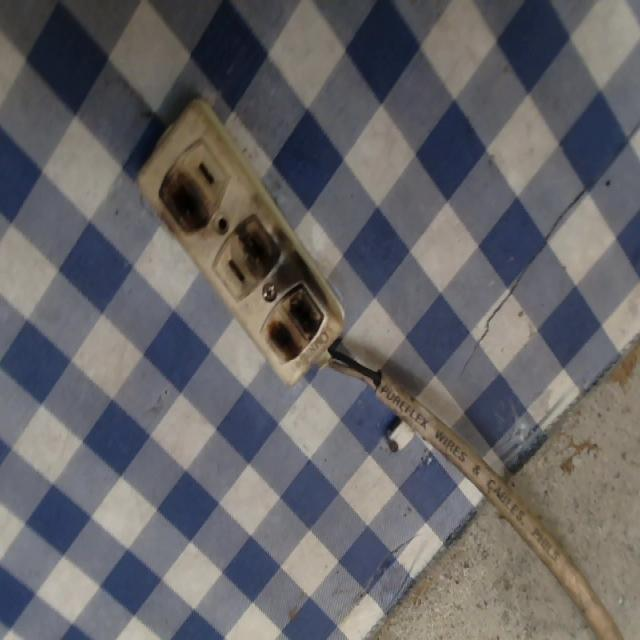-: (255, 283, 330, 367), (157, 156, 212, 240), (229, 211, 289, 277)
